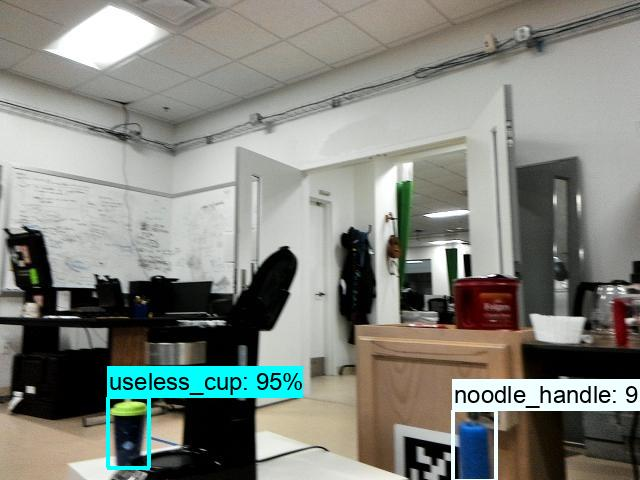noodle_handle: (452, 410, 501, 480)
useless_cup: (108, 401, 152, 465)
